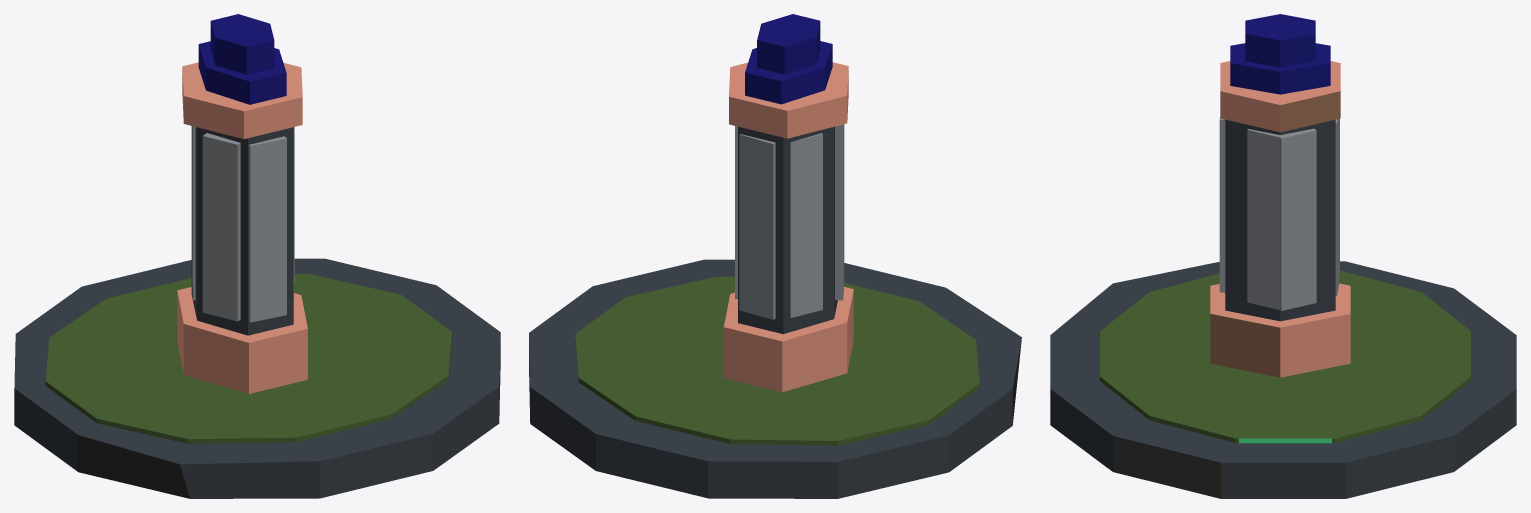
File: TowerCOM.glb
3 views of the same model, side by side, from view 1: azimuth 30°, elevation 25°; view 2: azimuth 150°, elevation 25°; view 3: azimuth 270°, elevation 25° (orthographic). The views are drawn at different scales.
Visible parts, largest first — view 1: cylinder; view 2: cylinder; view 3: cylinder.
Boxes of the visible parts, x1=… form: cylinder: x1=14, y1=14, x2=500, y2=498; cylinder: x1=529, y1=14, x2=1021, y2=498; cylinder: x1=1050, y1=14, x2=1516, y2=498.
Size of the model in its own units: 5.94 by 5 by 5.81.
Materials: 8 (8 with a texture image).
